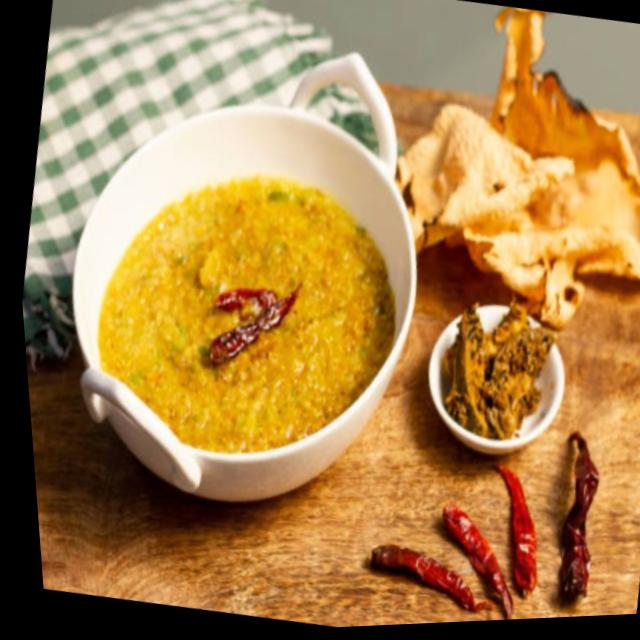PAPADAM: (392, 5, 640, 332)
PICKLE: (440, 289, 557, 438)
SAMBAR RICE: (93, 175, 389, 452)
